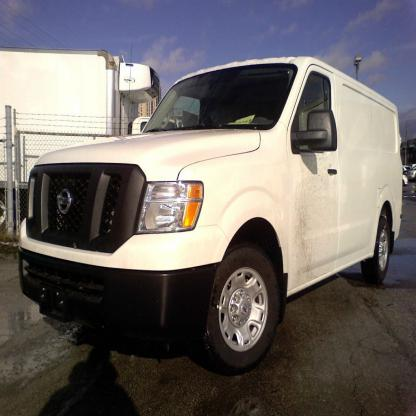car: (16, 56, 404, 375)
